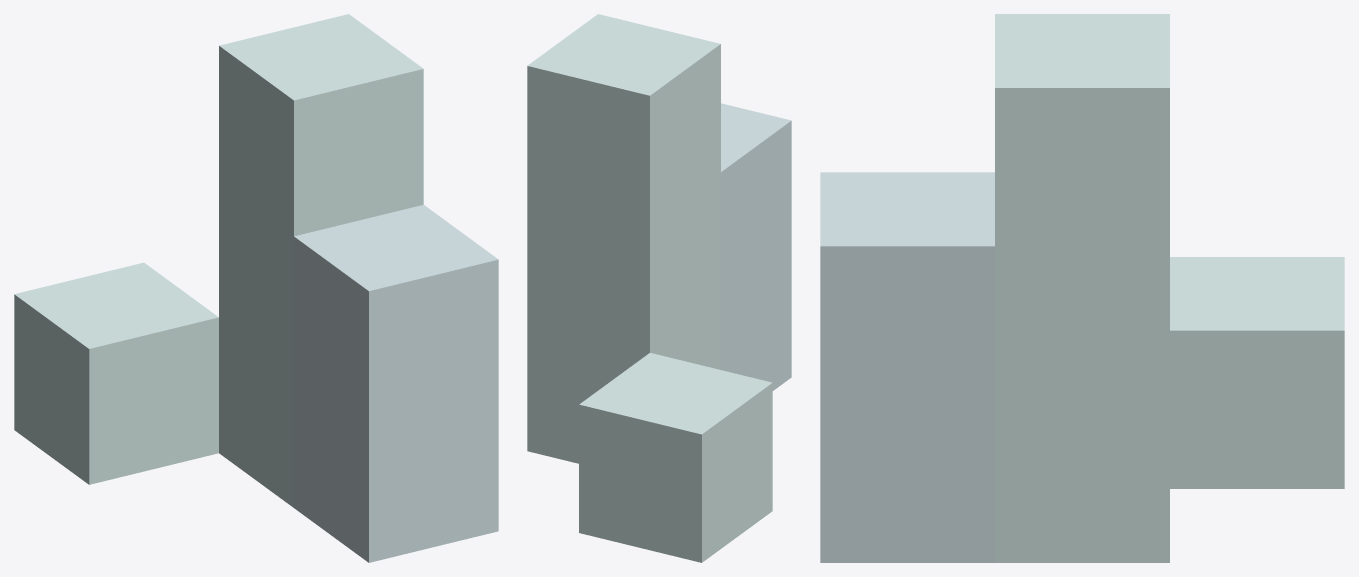
The model's file is tile-26.obj.
The picture shows the model from 3 angles, left to right: view 1: azimuth 30°, elevation 25°; view 2: azimuth 150°, elevation 25°; view 3: azimuth 270°, elevation 25°; orthographic projection. The views are drawn at different scales.
Bounding box in the file's own units: 0.2 × 0.3 × 0.3.
1 material, 1 textured.
